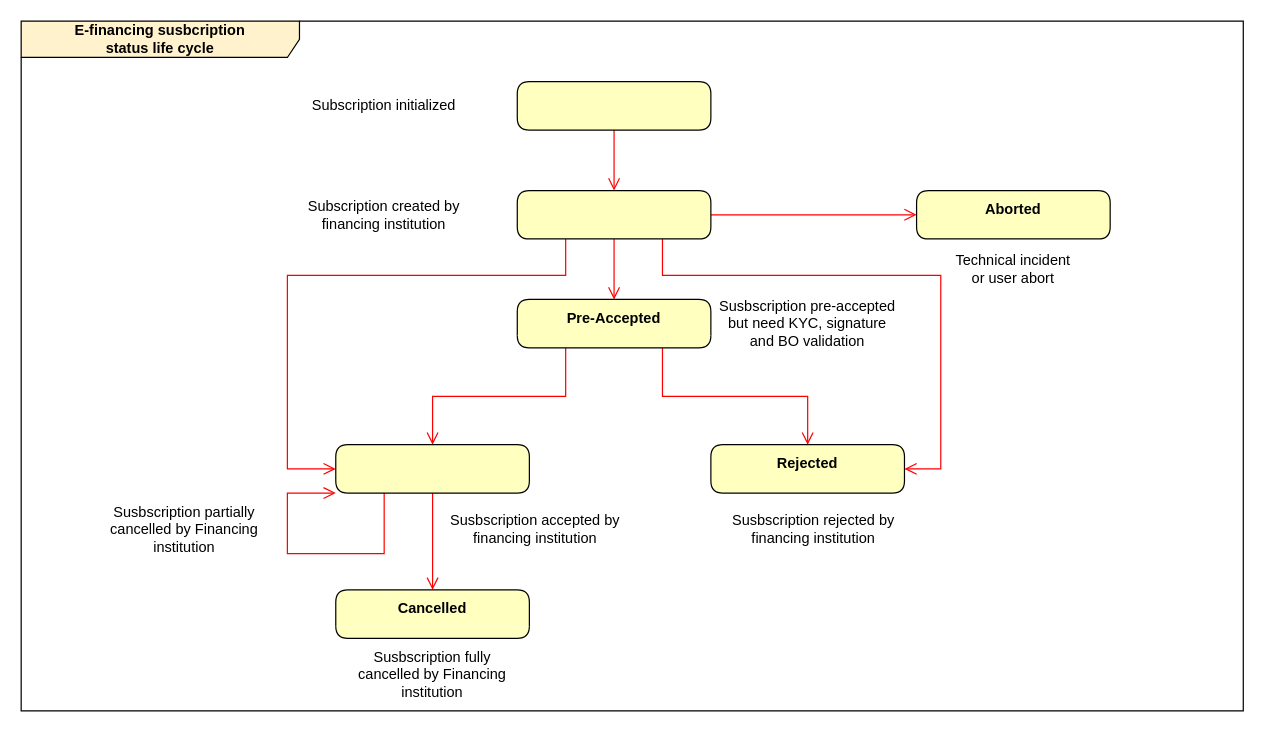
Some shapes in this 1264 by 732 pixel diagram are drawn without their labels. The box of each missing label's shape, as (x1, y1, x2, y2) in pixels:
Accepted: (335, 443, 529, 493)
Initialized: (516, 80, 711, 130)
Requested: (516, 189, 711, 239)
